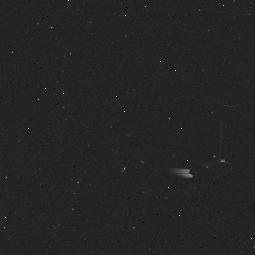proba_3_csc: (101, 84, 239, 209)
